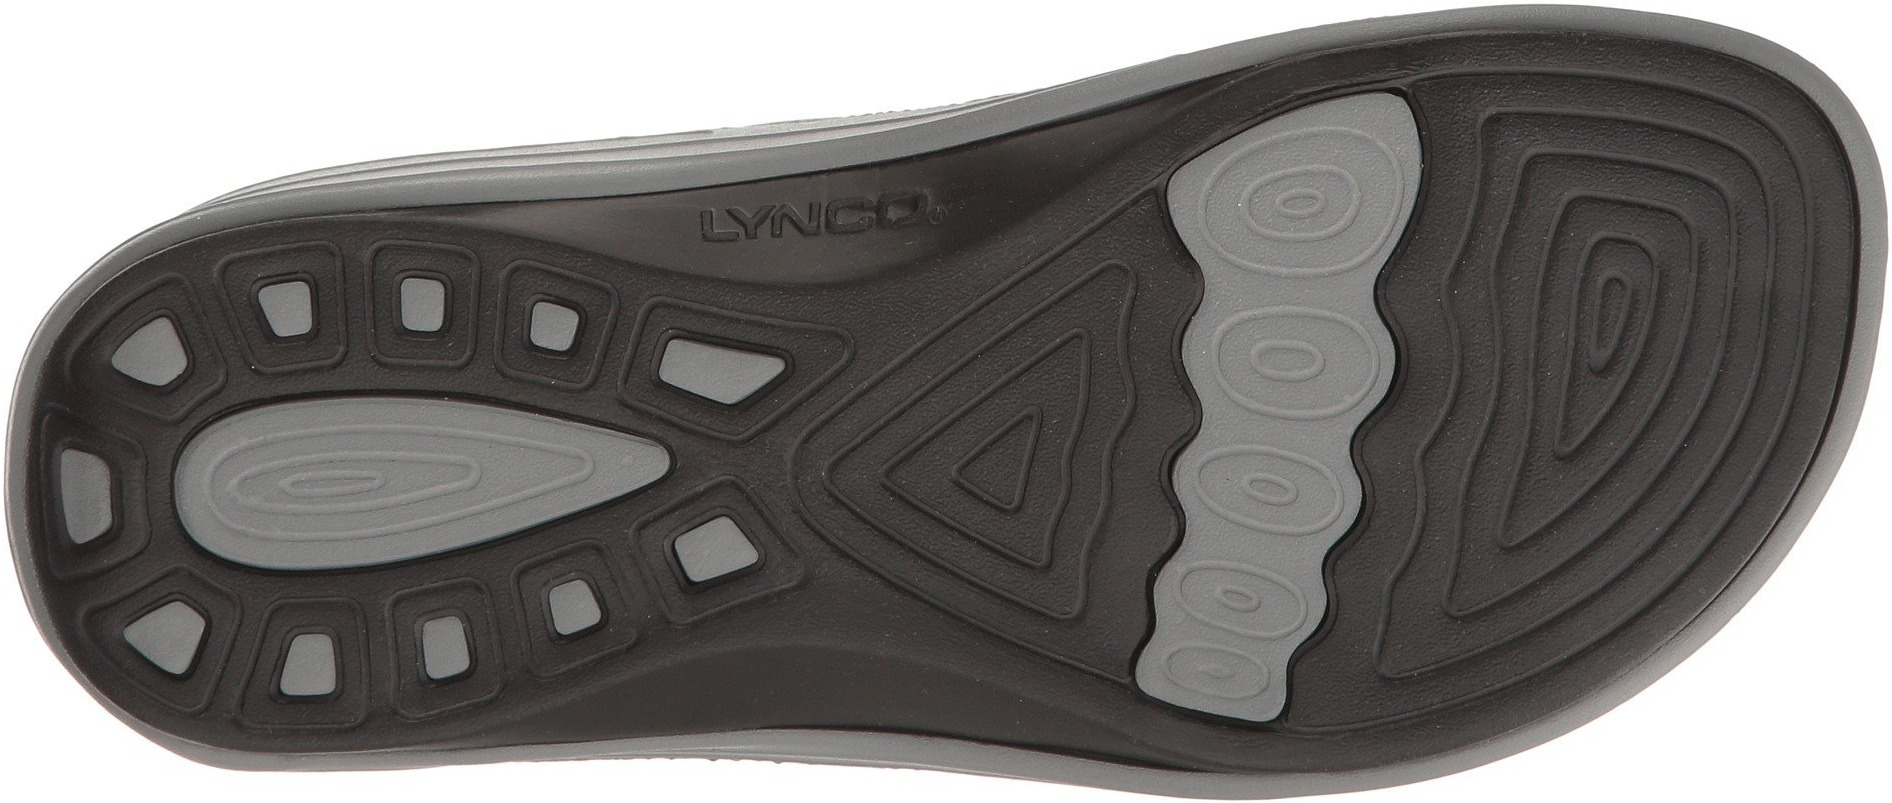circle: (1182, 109, 1417, 296), (1164, 398, 1372, 568)
exclude: (524, 747, 1008, 801)
quad: (16, 398, 189, 578), (195, 222, 364, 389), (474, 248, 636, 412), (224, 583, 383, 737)
text: (816, 161, 951, 270), (687, 178, 828, 280)
triangle: (1443, 178, 1779, 505)
